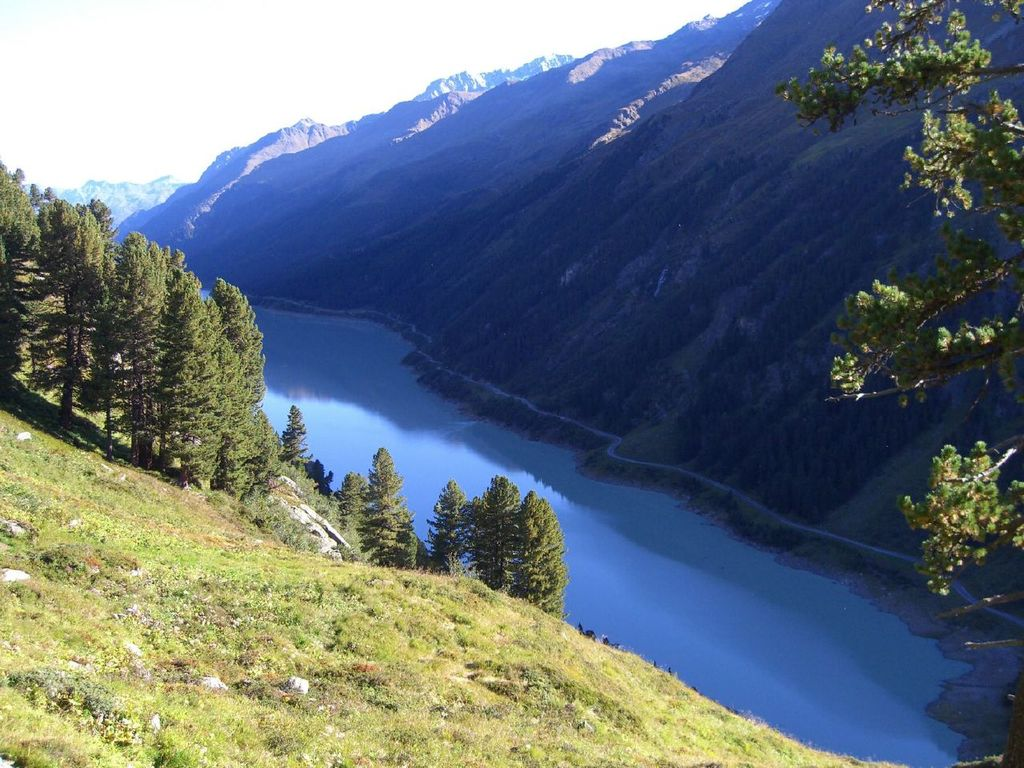Tree: (0, 154, 566, 625), (775, 0, 1024, 768)
